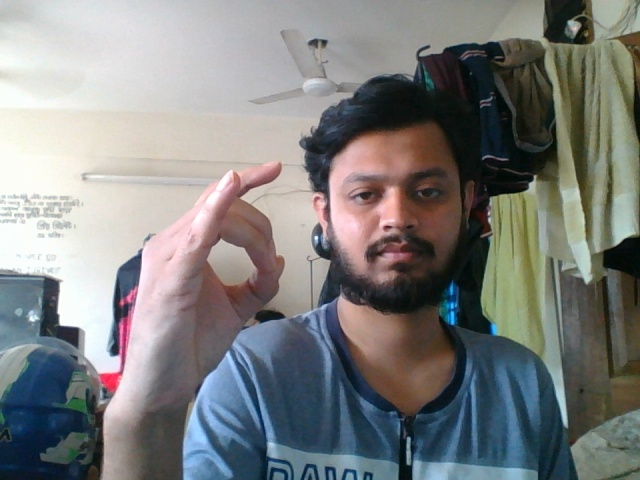cha: (102, 158, 303, 424)
